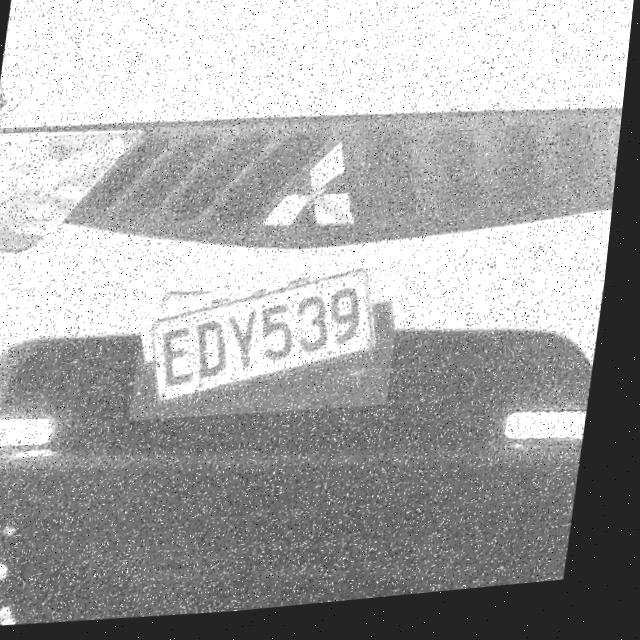LicensePlate: (138, 251, 414, 433)
